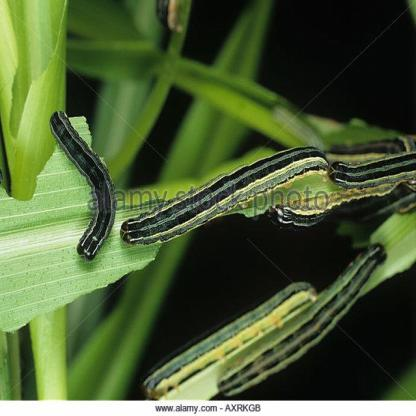armyworm: (218, 240, 402, 395), (120, 136, 331, 246), (142, 280, 320, 402), (50, 108, 116, 267), (322, 149, 416, 191), (265, 200, 357, 231)
